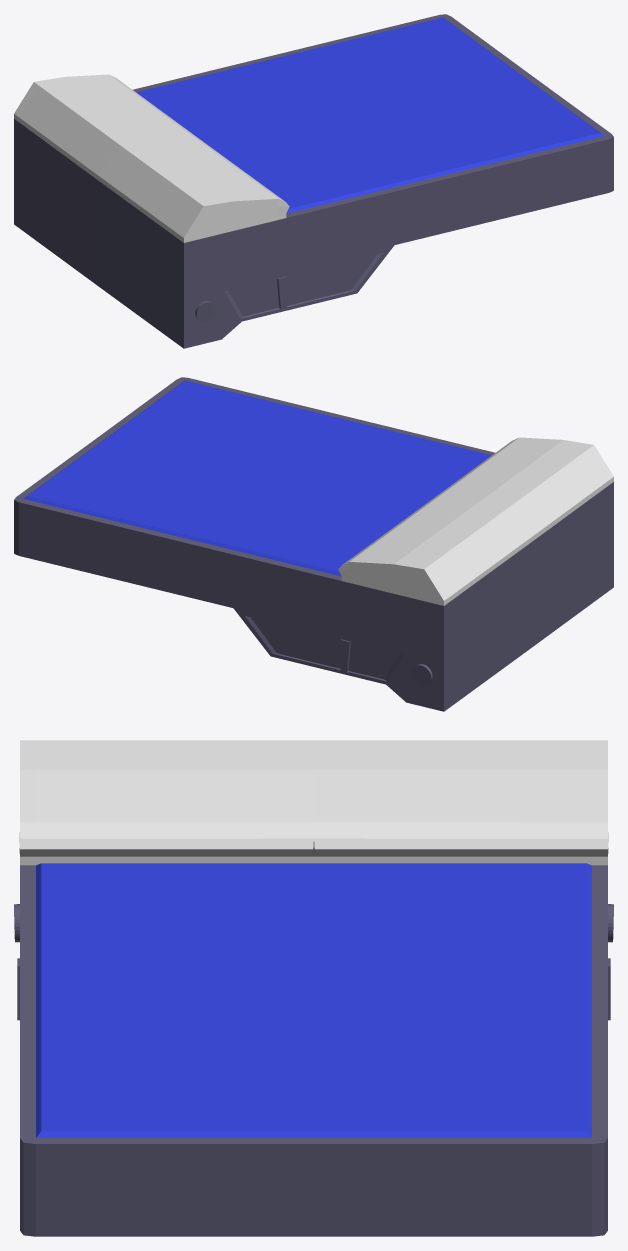
The model's file is bed1.fbx.
3 renders of one model, top to bottom at view 1: azimuth 30°, elevation 25°; view 2: azimuth 150°, elevation 25°; view 3: azimuth 270°, elevation 25°, orthographic. The views are drawn at different scales.
Parts seen in each view (by area): view 1: Bed; view 2: Bed; view 3: Bed.
Part boxes in pixels (bbox=[...]): Bed: bbox=[14, 14, 613, 348]; Bed: bbox=[14, 377, 613, 711]; Bed: bbox=[14, 740, 613, 1236].
Size of the model in its own units: 203 by 61.72 by 141.
